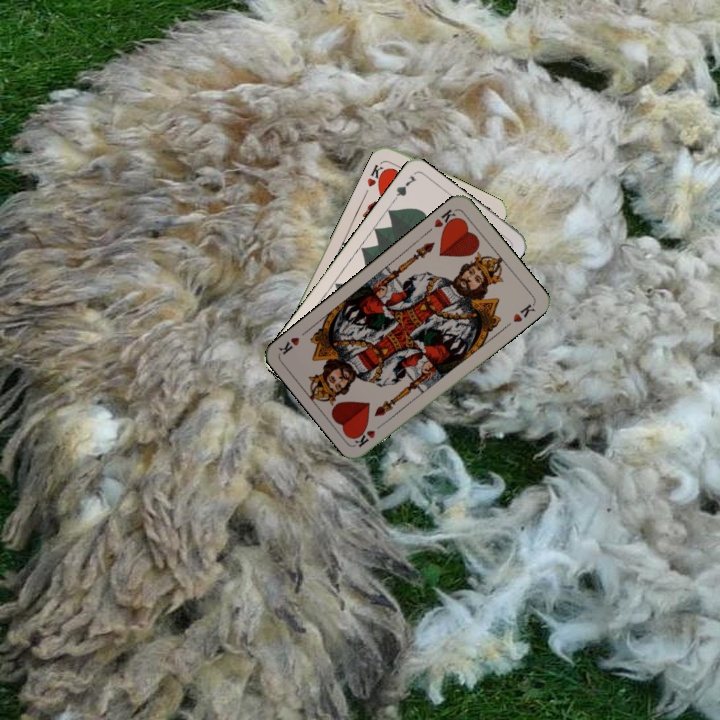G7: (387, 171, 419, 206)
HK: (351, 418, 388, 450), (363, 157, 390, 191), (430, 205, 461, 234)
